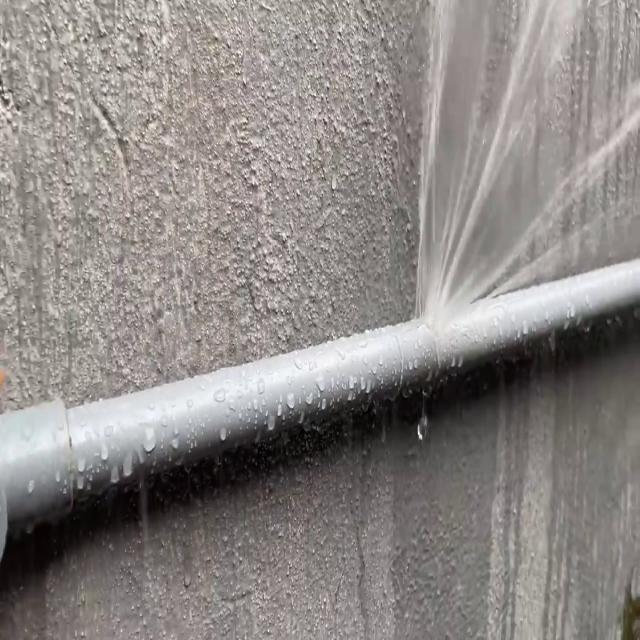leak: (416, 0, 640, 324)
